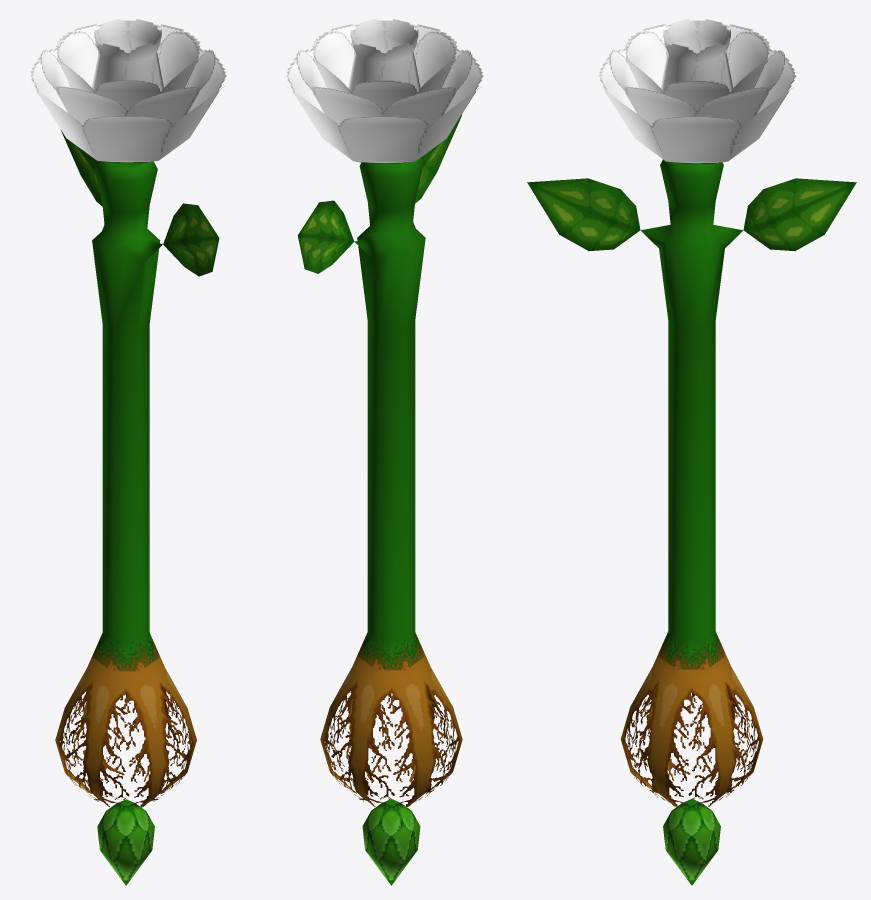
Rendered from mgWand_GRN.fbx.
The picture shows the model from 3 angles, left to right: view 1: azimuth 30°, elevation 25°; view 2: azimuth 150°, elevation 25°; view 3: azimuth 270°, elevation 25°; orthographic projection.
Visible parts, largest first — view 1: scepter_GRN, flower; view 2: scepter_GRN, flower; view 3: scepter_GRN, flower.
Boxes of the visible parts, bbox=[...] form: scepter_GRN: bbox=[55, 129, 219, 885]; flower: bbox=[30, 19, 226, 163]; scepter_GRN: bbox=[297, 115, 462, 885]; flower: bbox=[286, 19, 483, 163]; scepter_GRN: bbox=[527, 159, 856, 885]; flower: bbox=[598, 19, 796, 164].
Bounding box in the file's own units: 15.63 × 71.5 × 25.
Materials: 2 (2 with a texture image).
